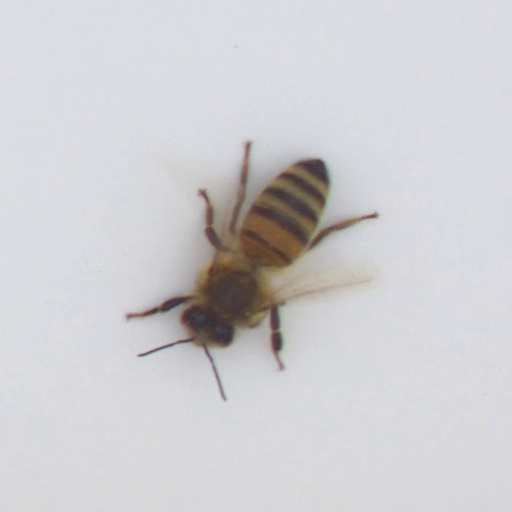Bee: (181, 156, 333, 345)
Thorax: (203, 266, 262, 316)
